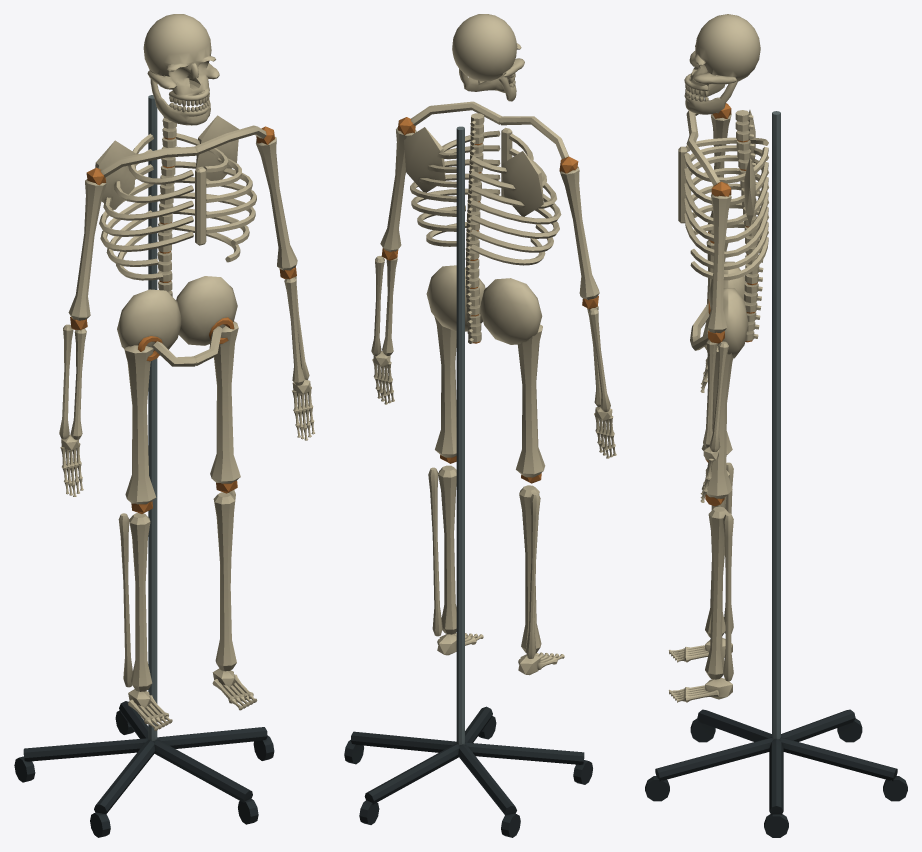
The model's file is skeleton.obj.
3 views of the same model, side by side, from view 1: azimuth 30°, elevation 25°; view 2: azimuth 150°, elevation 25°; view 3: azimuth 270°, elevation 25° (orthographic). The views are drawn at different scales.
Visible parts, largest first — view 1: skeleton_static_0; view 2: skeleton_static_0; view 3: skeleton_static_0.
Boxes of the visible parts, bbox=[...] form: skeleton_static_0: bbox=[14, 14, 315, 837]; skeleton_static_0: bbox=[344, 14, 616, 837]; skeleton_static_0: bbox=[645, 14, 907, 837].
Bounding box in the file's own units: 0.5641 × 1.69 × 0.5255.
Materials: 1 (1 with a texture image).
